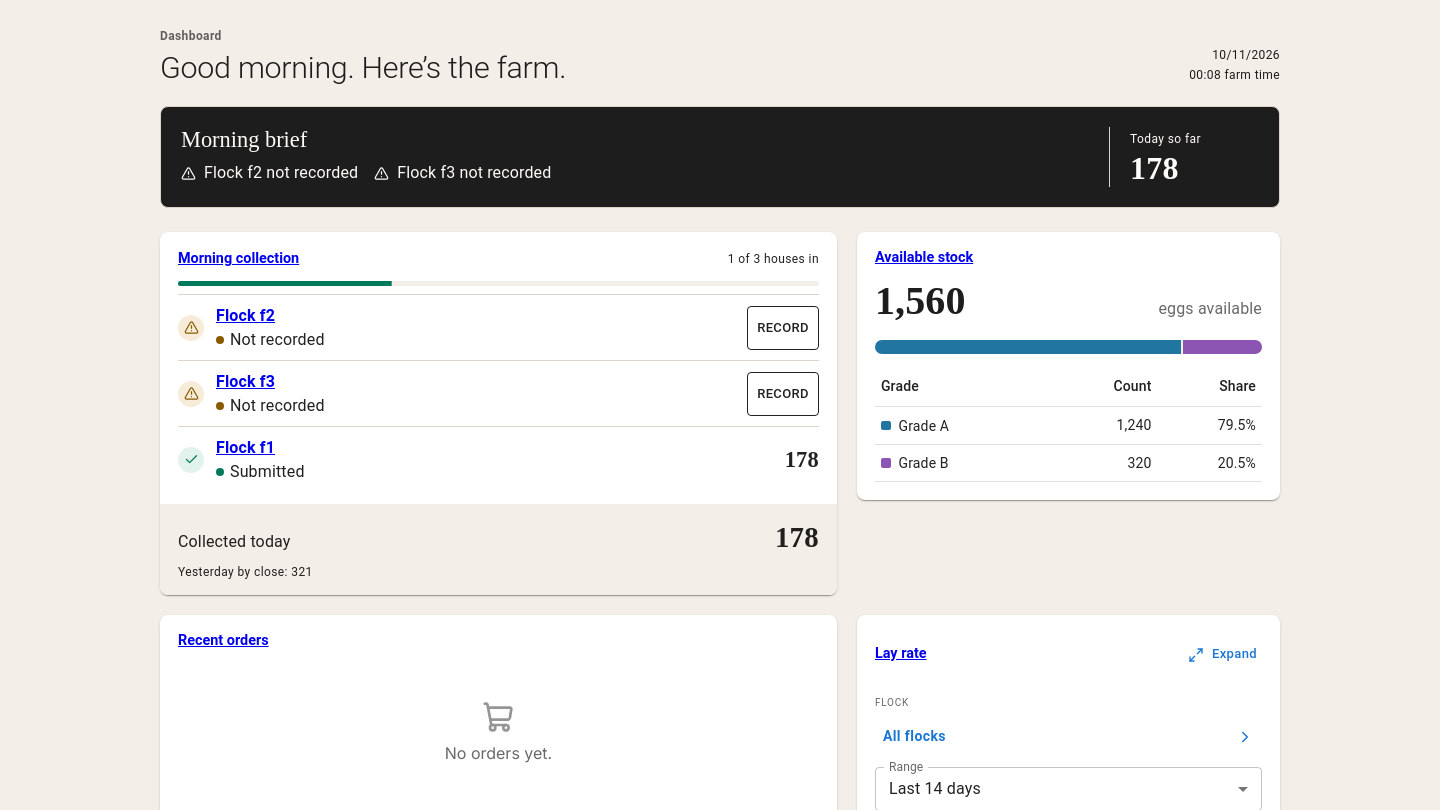
Scenario: Dashboard Lay rate flock scope (#916/#918 fidelity round) › marks the previously picked flock as the active option when the picker is reopened
What coordinates should you click on to do the following:
click the button "All flocks"
I would click on:
 (914, 736)
Its box is [875,715,1262,759].
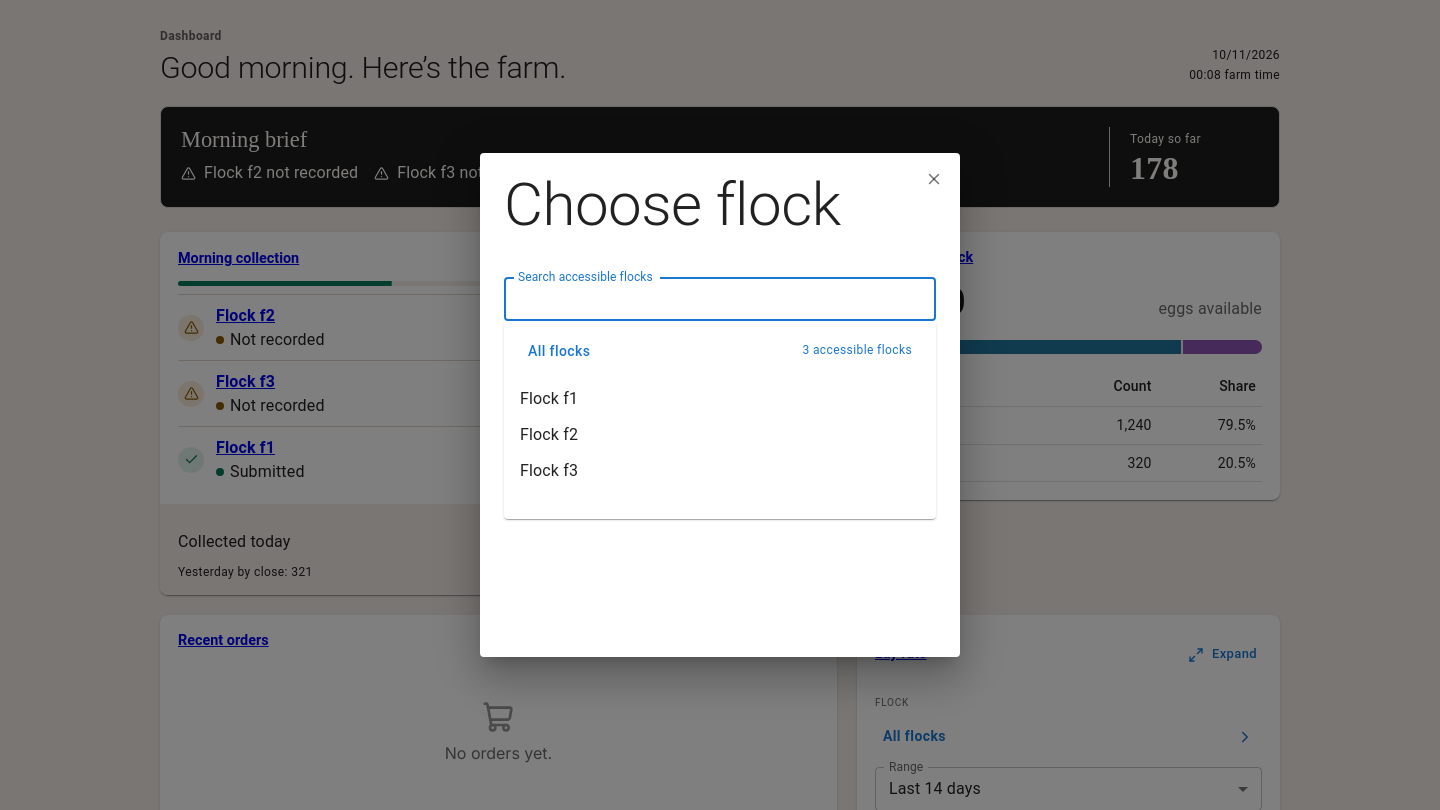
expect the text "Flock f1" is shown: met, box [520,387,578,411]
What coordinates should you click on to do the following:
click the option "Flock f2"
I would click on:
 (549, 434)
Its box is [520,425,578,444].
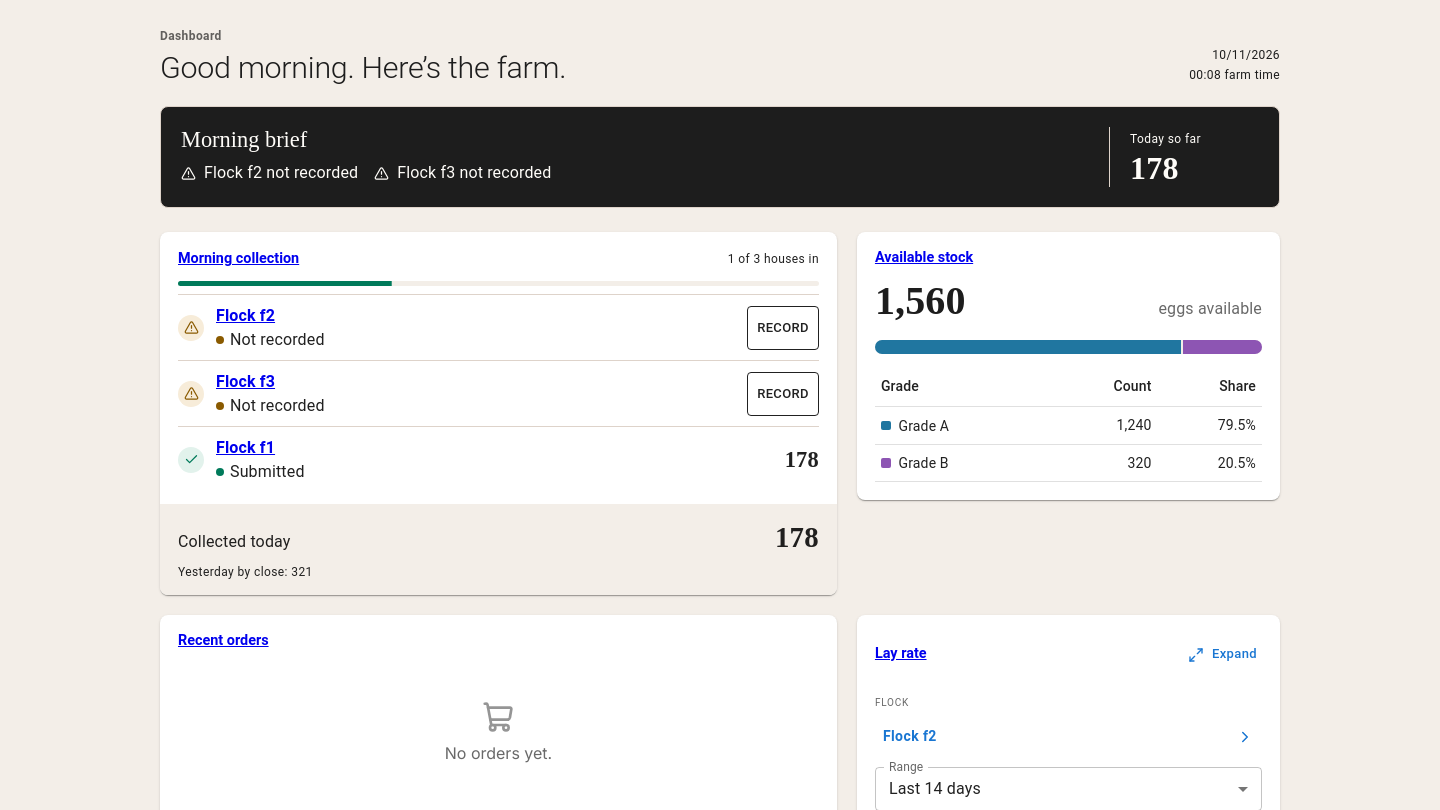
expect the dialog is gone: met
What coordinates should you click on to do the following:
click the button "Flock f2"
I would click on:
 (910, 736)
Its box is [875,715,1262,759].
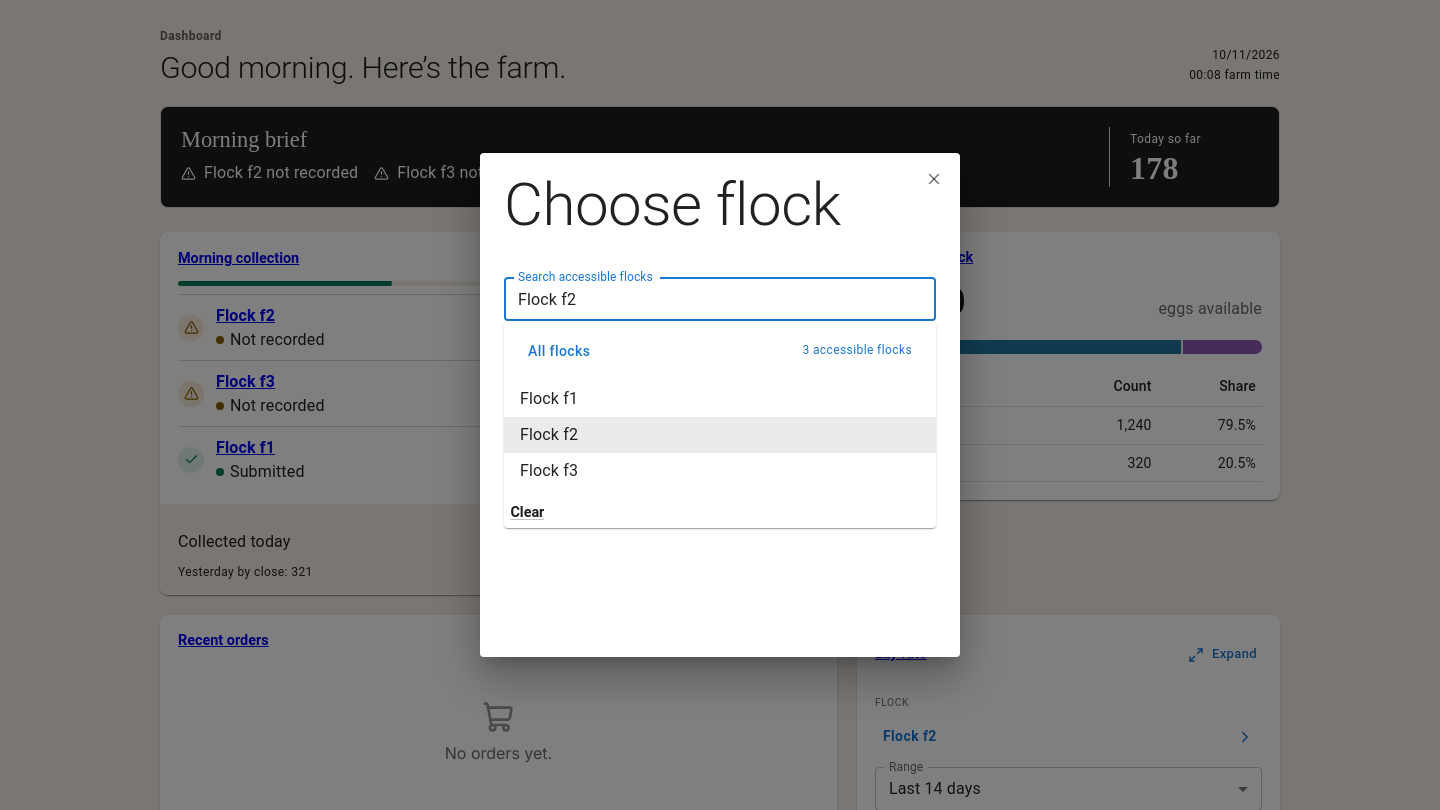
expect the text "Flock f1" is shown: met, box [520,387,578,411]
